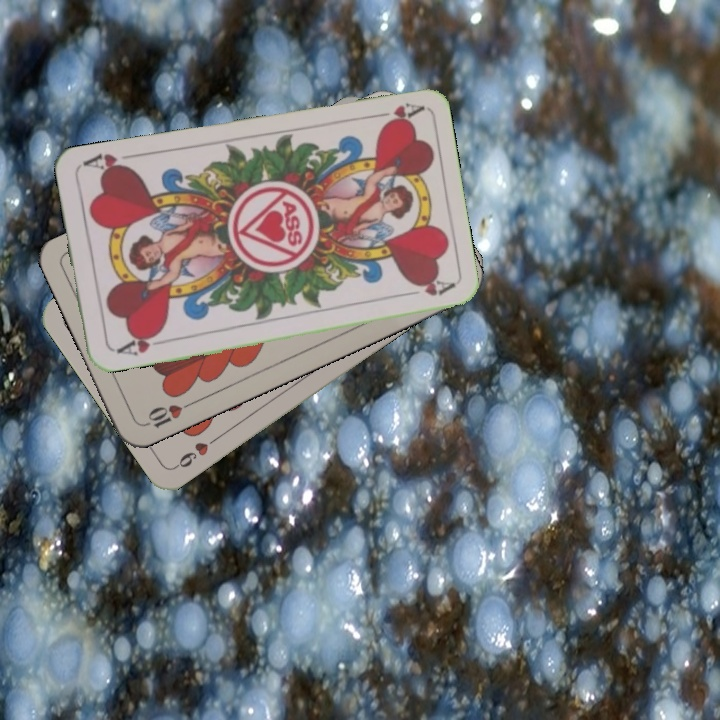H10: (140, 397, 196, 431)
H9: (171, 431, 222, 471)
HA: (365, 98, 424, 130), (109, 328, 168, 359)
